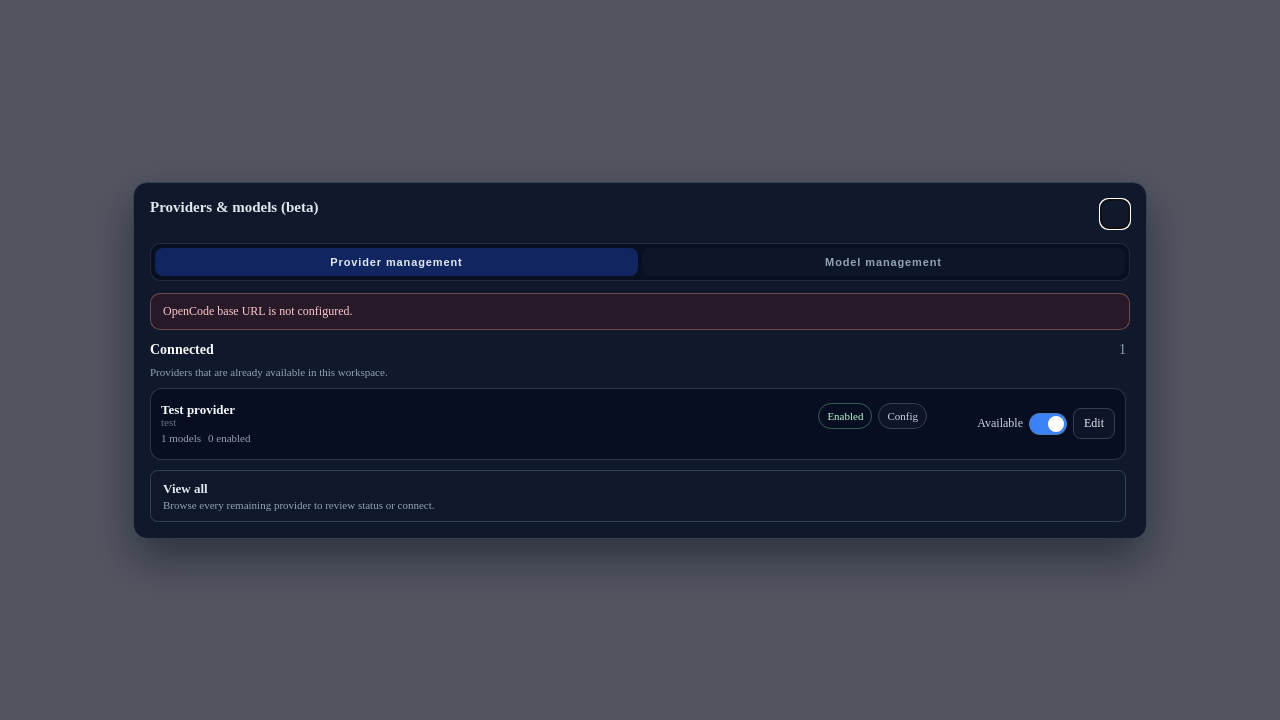
Test case: opens native DSH configuration in a secondary view and keeps the key when editing endpoint
Click the button "Edit": x=1094, y=424 [1073,408,1115,439]
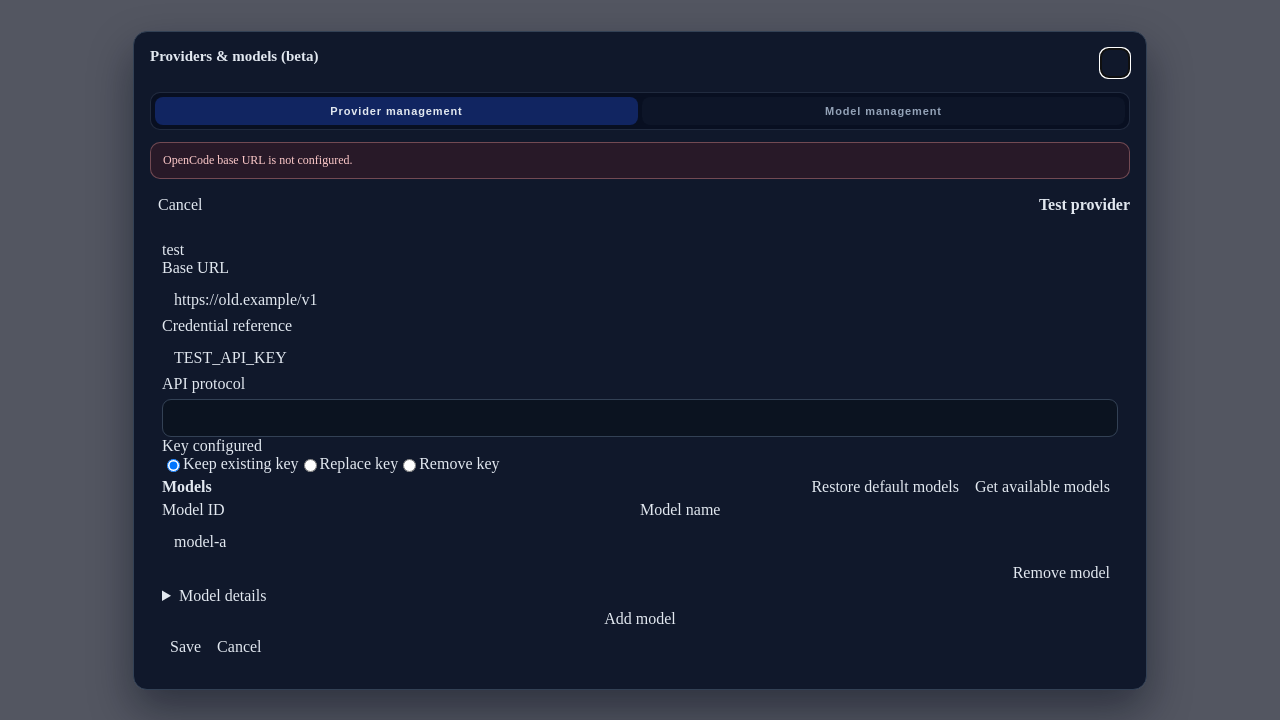
expect the field labelled "Base URL" is shown: met
Replace the text in the field labelled "Base URL" with "https://new.example/v1": x=640, y=300 [162,282,1118,316]
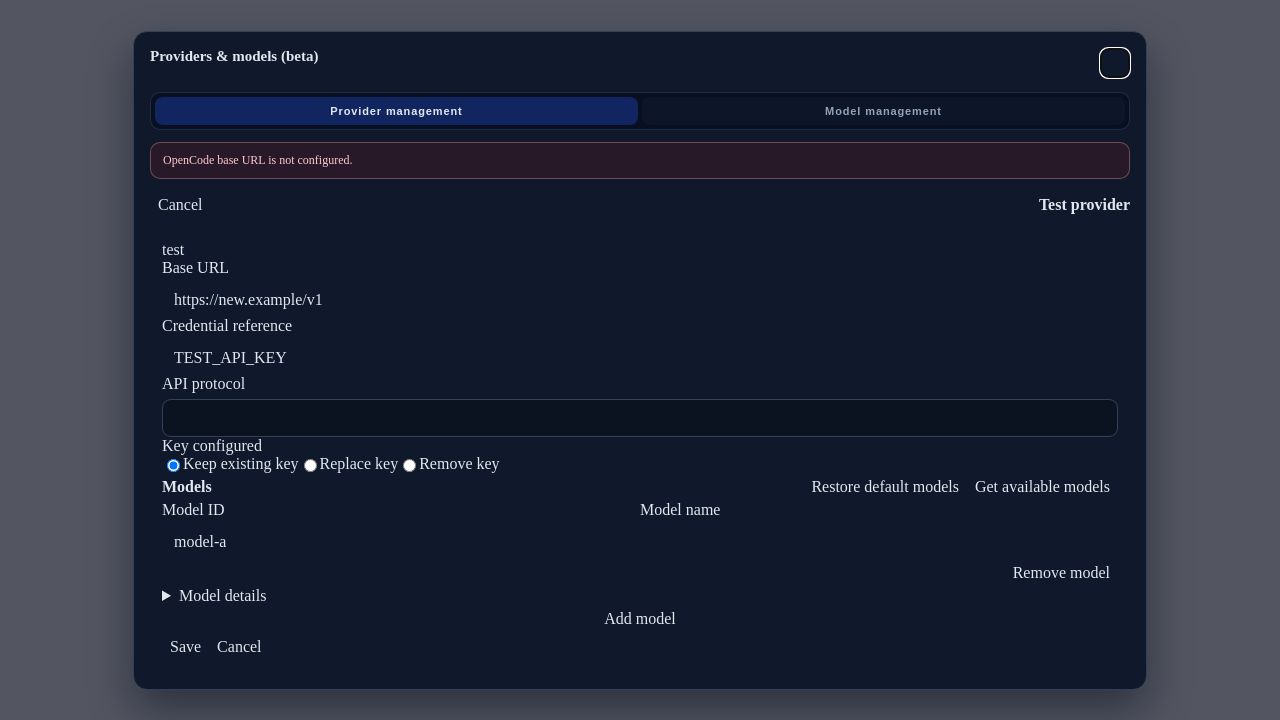
Submit the form, box [150,228,1130,672]
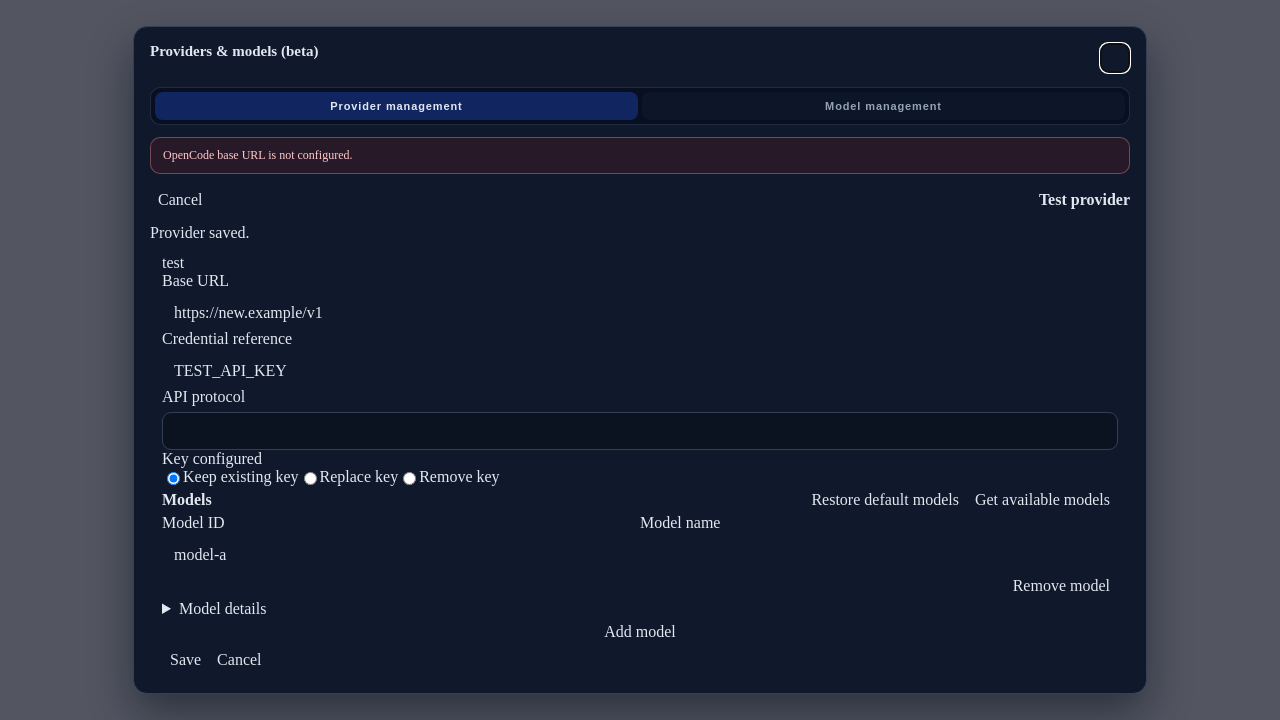
expect the element with class "dsh-provider-settings" is shown: met, box [150,186,1130,677]
Click the button "Cancel" in the row of "Test provider": x=180, y=200 [150,186,210,214]
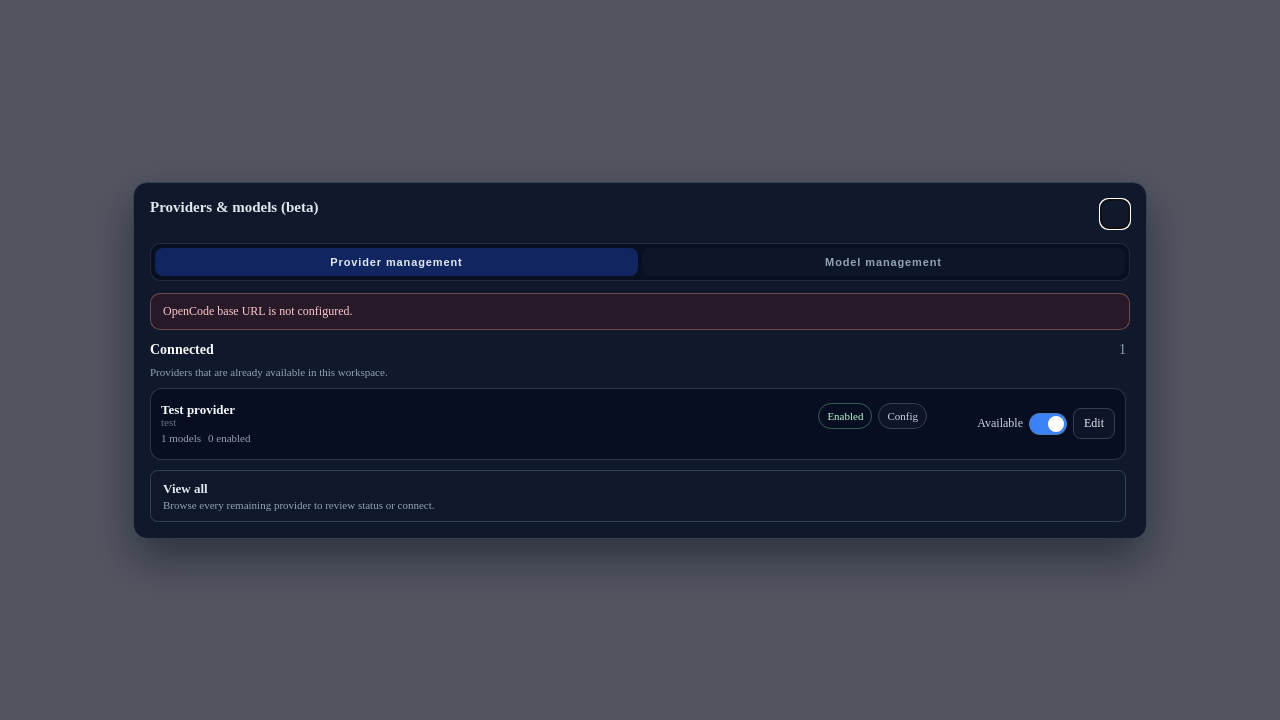
expect the element with class "dsh-provider-settings" is gone: met
expect the element that starts with "Test provider" is shown: met, box [151,388,1125,458]
